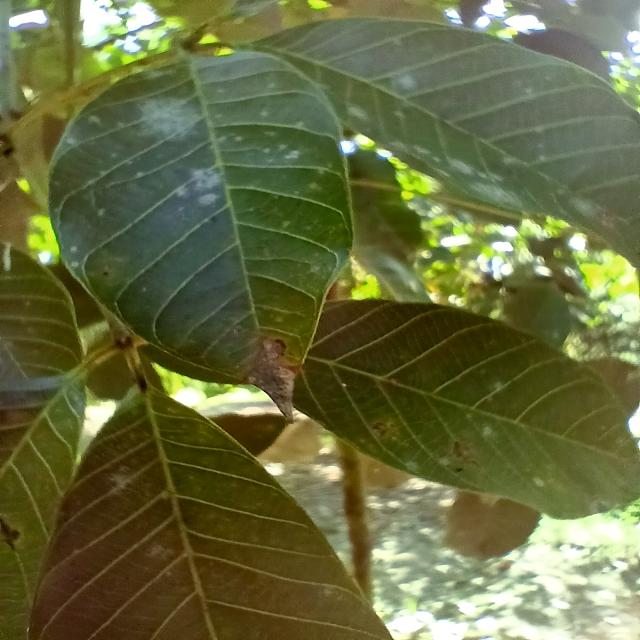Leaf-Blight: (246, 338, 298, 422)
